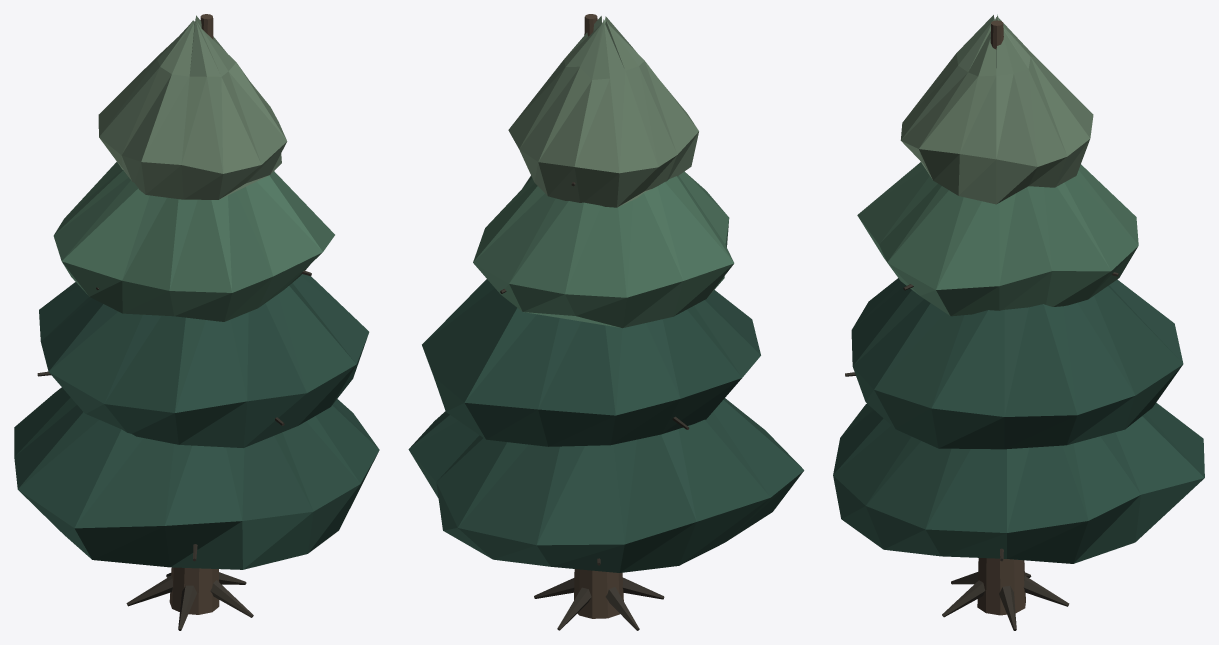
File: evergreen-tree.glb
3 views of the same model, side by side, from view 1: azimuth 30°, elevation 25°; view 2: azimuth 150°, elevation 25°; view 3: azimuth 270°, elevation 25° (orthographic).
Visible parts, largest first — view 1: evergreen-tree; view 2: evergreen-tree; view 3: evergreen-tree.
Boxes of the visible parts, x1,y1,x2,y2 form: evergreen-tree: (14, 14, 379, 630); evergreen-tree: (408, 14, 804, 630); evergreen-tree: (833, 14, 1204, 630).
Size of the model in its own units: 4.31 by 7.25 by 4.14.
